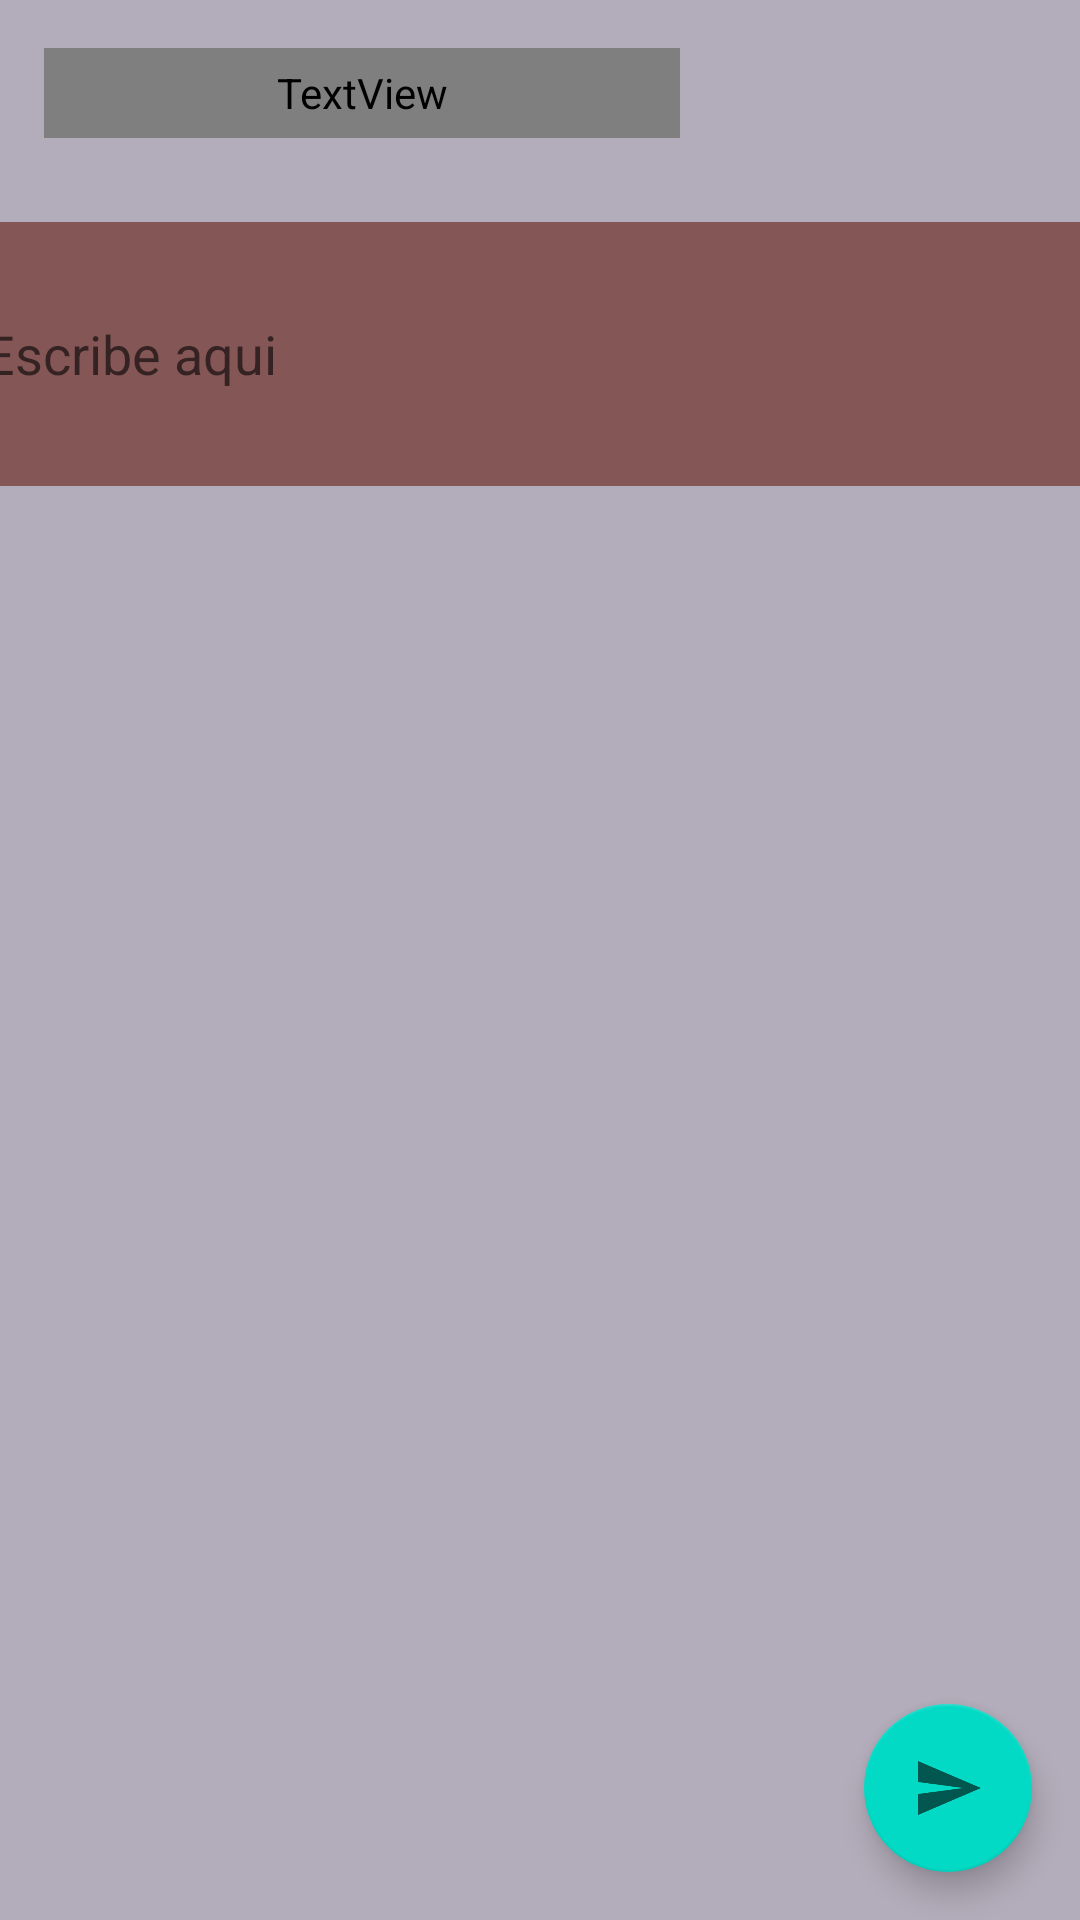

Named icons in this screenshot (1080 x 1920) and their centers, point (x, y):
send: point (948, 1788)
